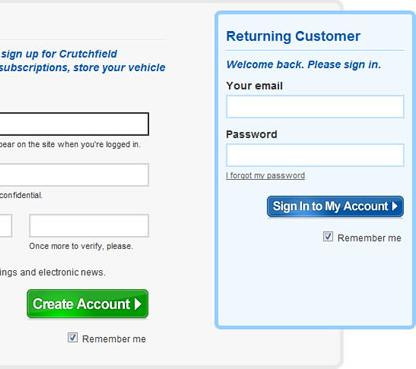button: (27, 288, 148, 320), (266, 194, 404, 218)
checkbox: (322, 229, 334, 243), (67, 330, 78, 344)
checkbox_with_label: (64, 328, 148, 346), (320, 226, 404, 244)
field: (225, 140, 406, 167), (224, 93, 405, 119), (28, 213, 149, 236)
field_with_label: (222, 79, 407, 121), (222, 129, 410, 169)
